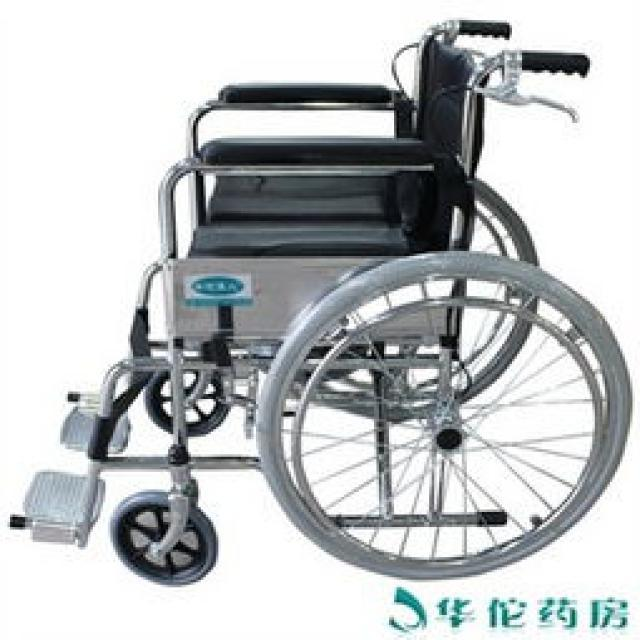wheelchair: (5, 10, 625, 588)
